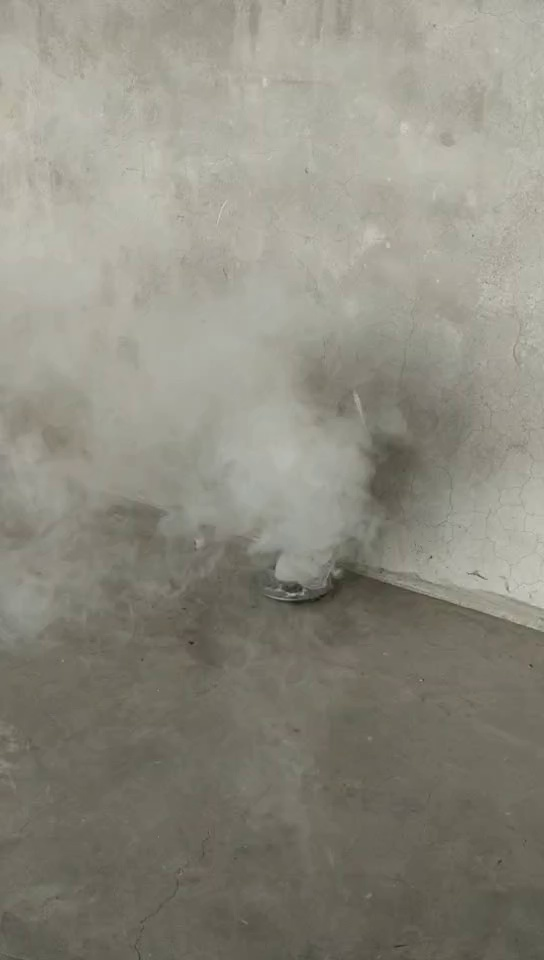yanwu: (35, 237, 368, 584)
